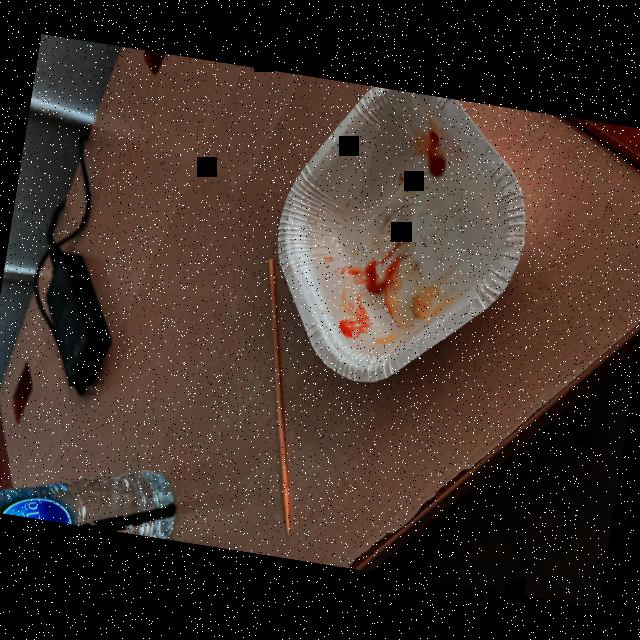cardboard_bowl: (253, 74, 546, 407)
stick: (219, 254, 336, 541)
